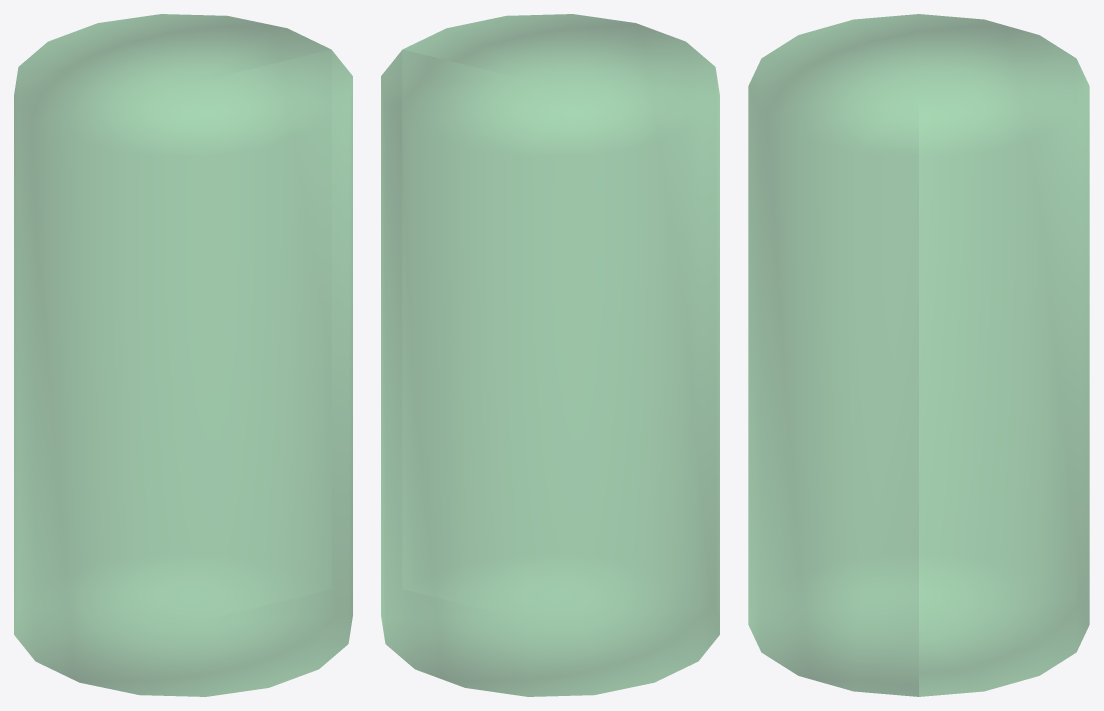
Rendered from prop_lantern_col.glb.
The picture shows the model from 3 angles, left to right: view 1: azimuth 30°, elevation 25°; view 2: azimuth 150°, elevation 25°; view 3: azimuth 270°, elevation 25°; orthographic projection.
Visible parts, largest first — view 1: prop_lantern_col_0; view 2: prop_lantern_col_0; view 3: prop_lantern_col_0.
Boxes of the visible parts, x1=… form: prop_lantern_col_0: x1=14, y1=14, x2=352, y2=696; prop_lantern_col_0: x1=381, y1=14, x2=719, y2=696; prop_lantern_col_0: x1=748, y1=14, x2=1089, y2=696.
Size of the model in its own units: 0.1313 by 0.2287 by 0.1313.
